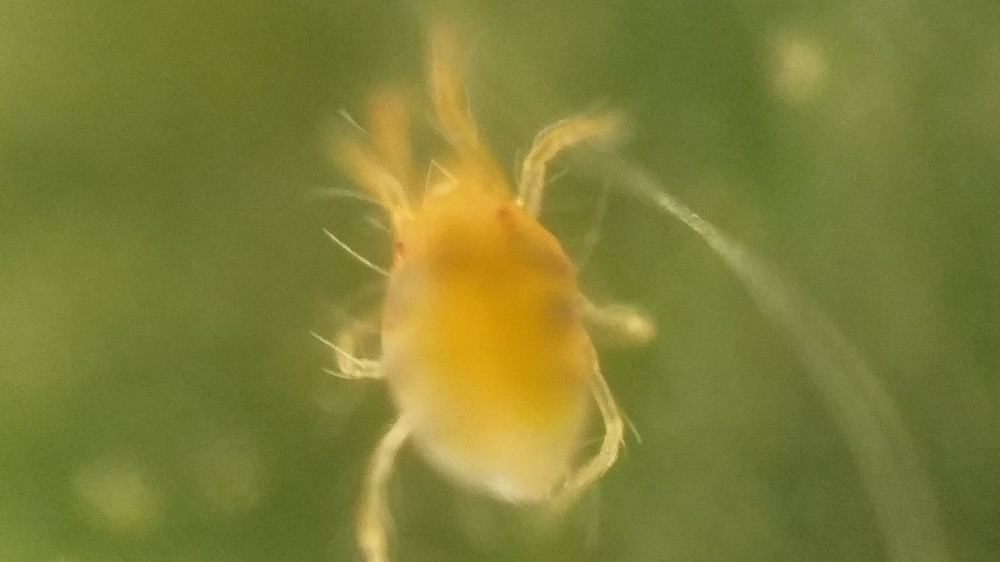Aracnido Rojo: (262, 66, 682, 535)
